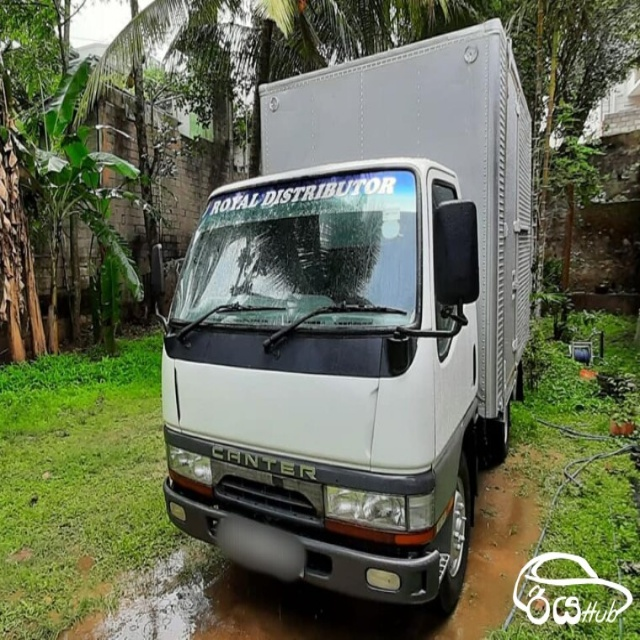Truck: (150, 17, 533, 609)
